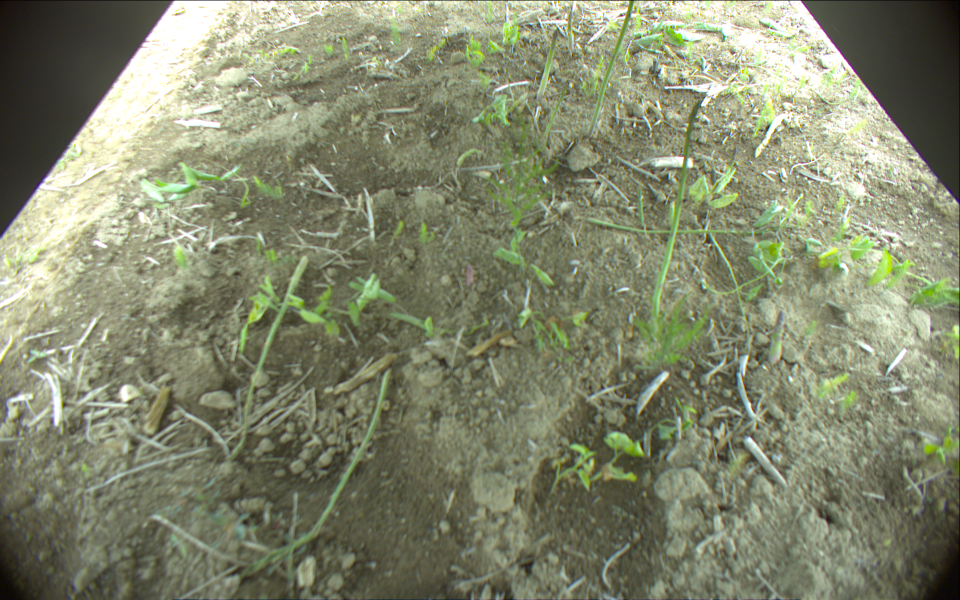aspa: (241, 369, 390, 579), (228, 254, 306, 467), (652, 97, 704, 322), (590, 1, 636, 134), (579, 215, 769, 235), (536, 27, 562, 101), (539, 93, 570, 145), (567, 5, 576, 54)
